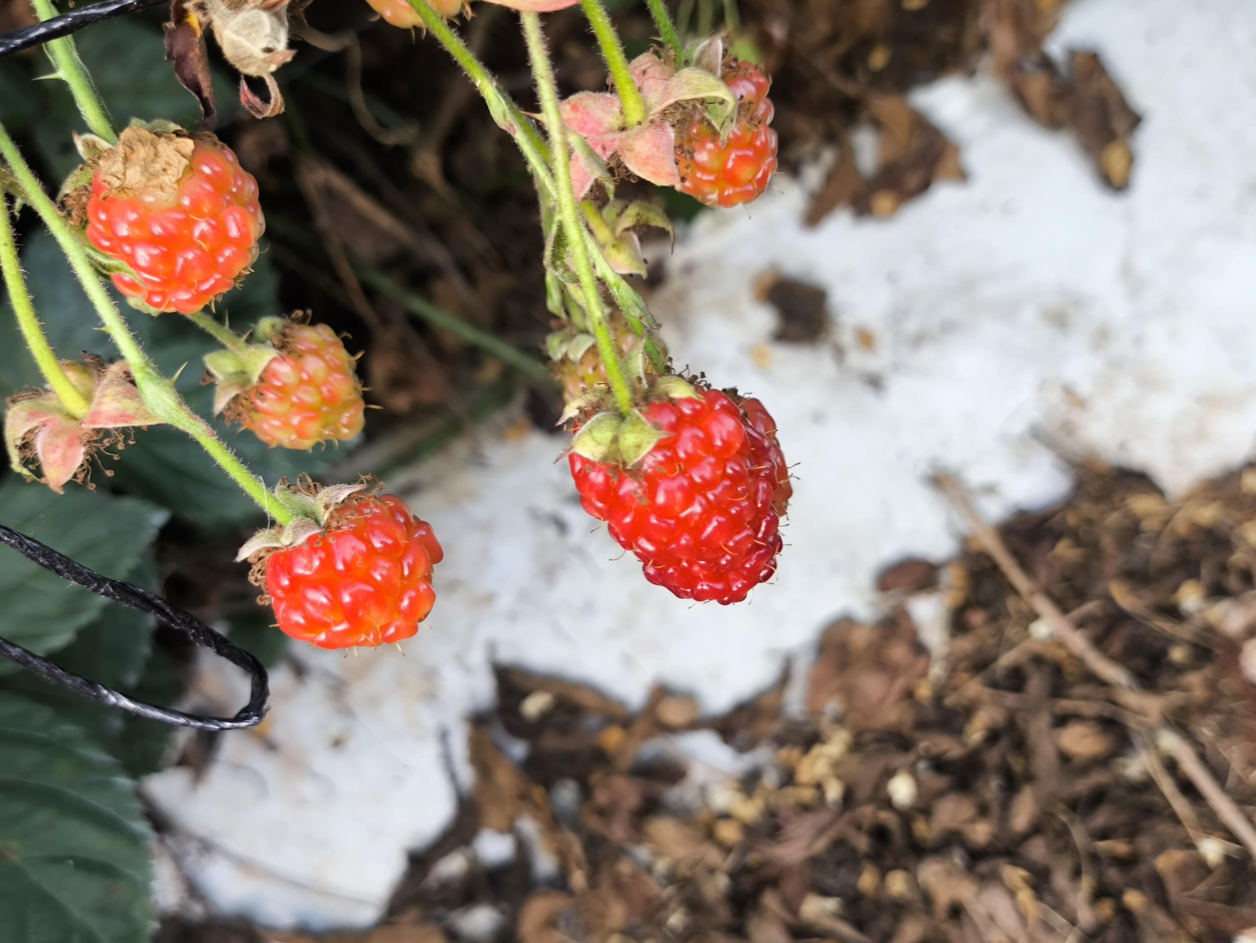naranja: (569, 389, 792, 604), (78, 127, 264, 314), (258, 491, 439, 645), (675, 58, 777, 207), (241, 326, 364, 449)
